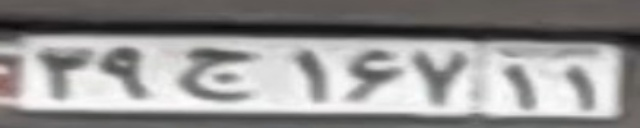1: (295, 48, 326, 102), (500, 63, 535, 110), (564, 64, 595, 109)
3: (37, 47, 92, 99)
6: (341, 48, 403, 101)
7: (412, 48, 467, 104)
9: (99, 47, 145, 97)
jim: (177, 46, 250, 100)
